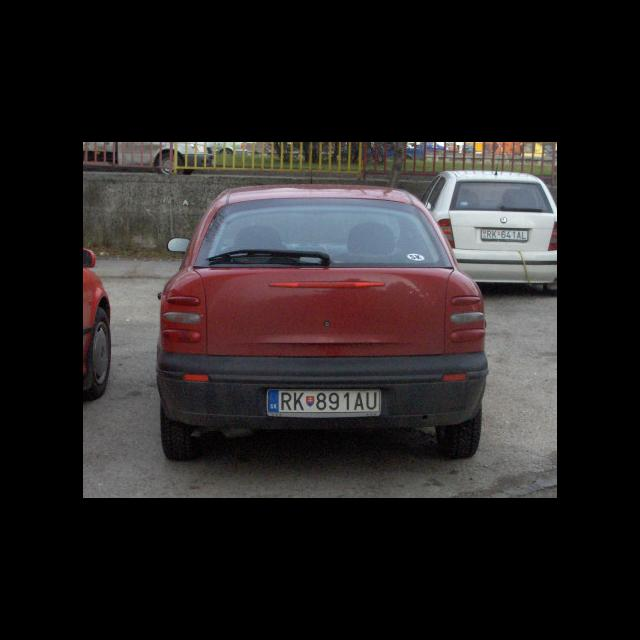Plate: (265, 386, 382, 417)
